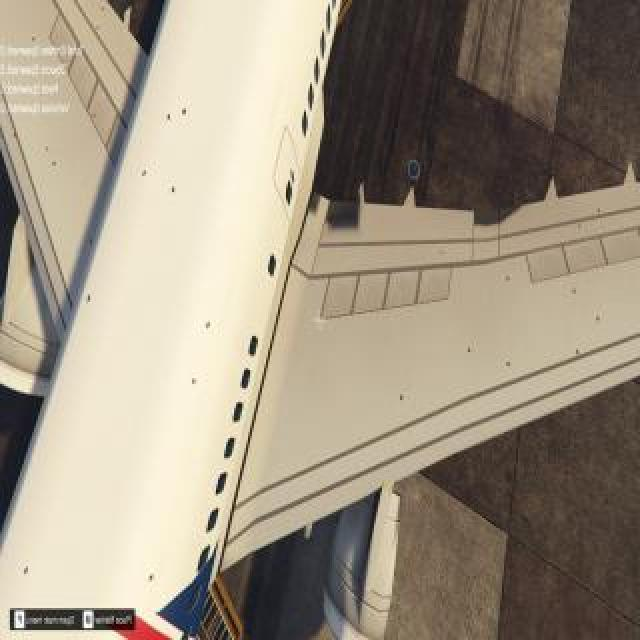crack: (149, 570, 157, 586), (205, 318, 213, 334), (170, 181, 178, 197), (84, 296, 94, 308), (398, 391, 406, 405), (503, 274, 513, 284), (466, 346, 474, 358), (595, 314, 603, 324), (190, 378, 198, 388), (51, 158, 59, 168), (141, 169, 147, 181), (183, 103, 187, 119), (86, 239, 94, 247), (92, 109, 98, 119), (24, 567, 28, 579), (577, 347, 581, 359), (166, 113, 172, 121), (598, 203, 602, 215), (578, 221, 582, 233), (573, 286, 577, 296), (507, 360, 511, 368)
